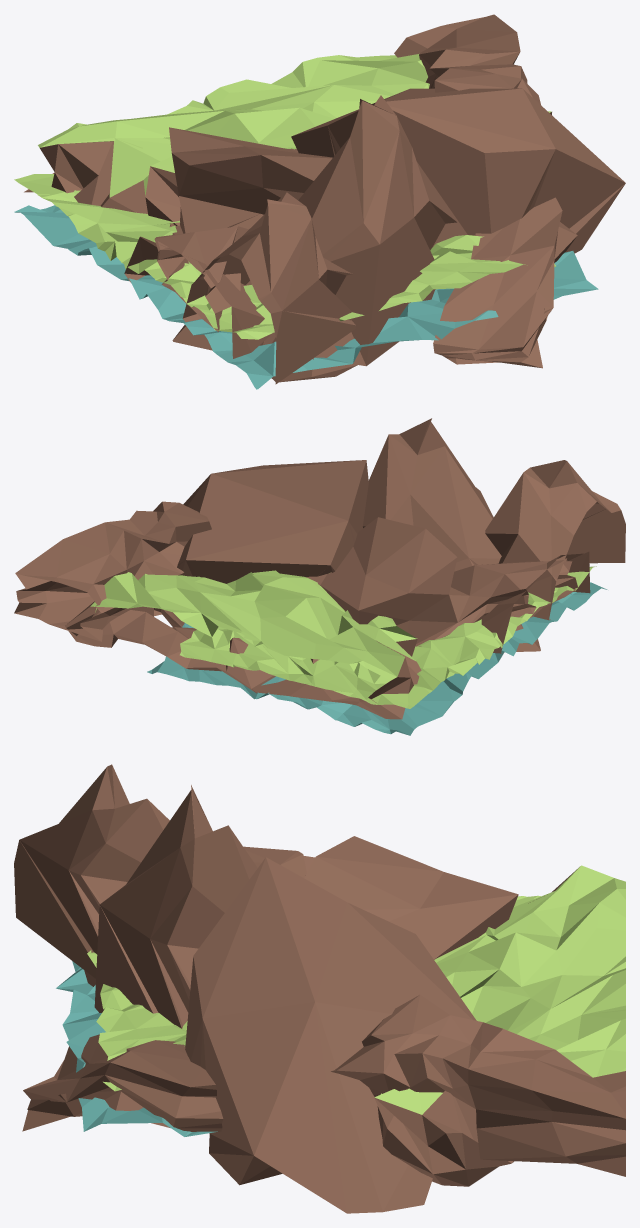
The model's file is RG_Terrain-Mesh-10.fbx.
3 renders of one model, top to bottom at view 1: azimuth 30°, elevation 25°; view 2: azimuth 150°, elevation 25°; view 3: azimuth 270°, elevation 25°, orthographic. The views are drawn at different scales.
Parts seen in each view (by area): view 1: RG_Terrain-Mesh-10; view 2: RG_Terrain-Mesh-10; view 3: RG_Terrain-Mesh-10.
Part boxes in pixels (x1,y1,x2,y2): RG_Terrain-Mesh-10: [14, 14, 625, 389]; RG_Terrain-Mesh-10: [14, 418, 625, 735]; RG_Terrain-Mesh-10: [14, 764, 625, 1213].
Bounding box in the file's own units: 154 × 74.64 × 146.
